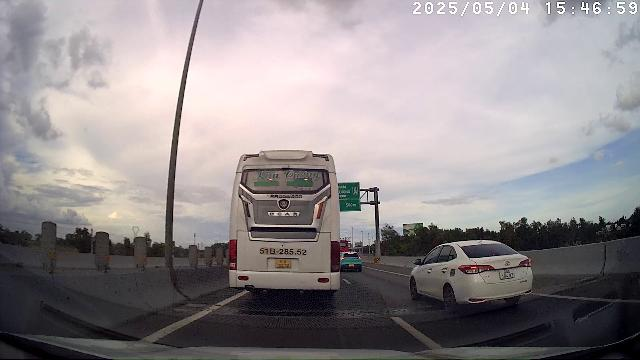438-ket-thuc-duong-cao-toc: (352, 185, 359, 196)
